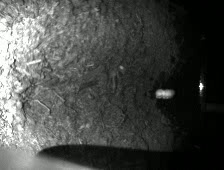corn: (155, 88, 174, 99), (119, 65, 125, 71)
